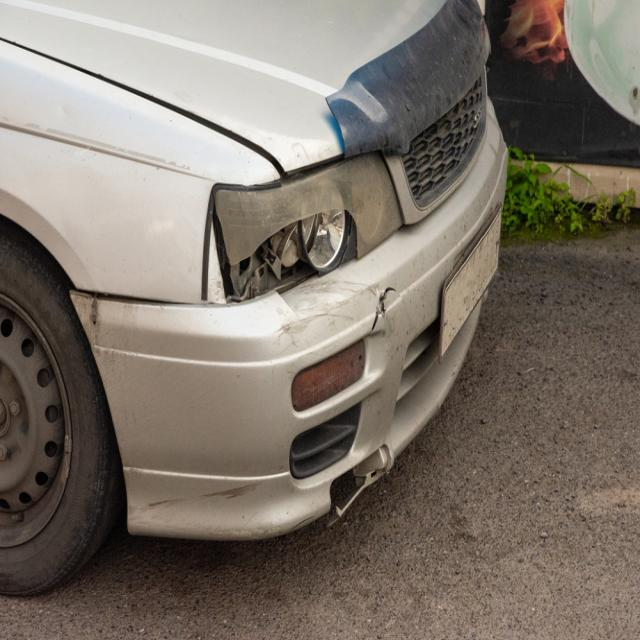crack: (370, 285, 397, 337)
lamp broken: (205, 152, 403, 303)
scratch: (129, 479, 282, 535), (278, 276, 373, 340)
